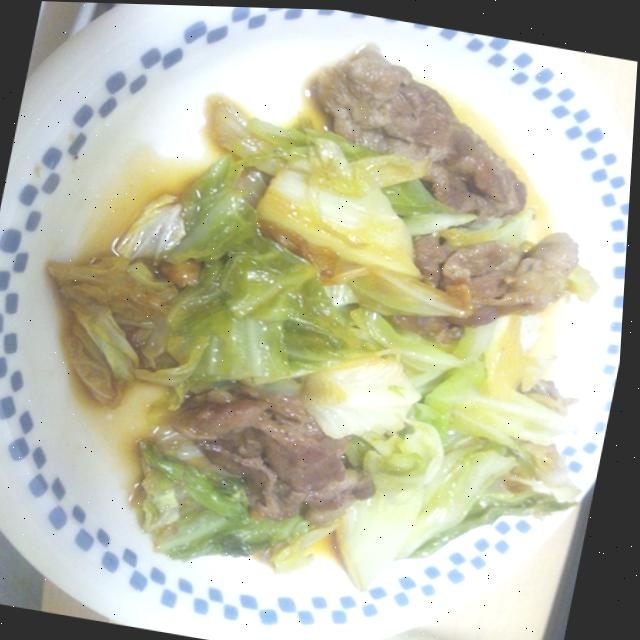猪肉菜式: (8, 47, 615, 573)
